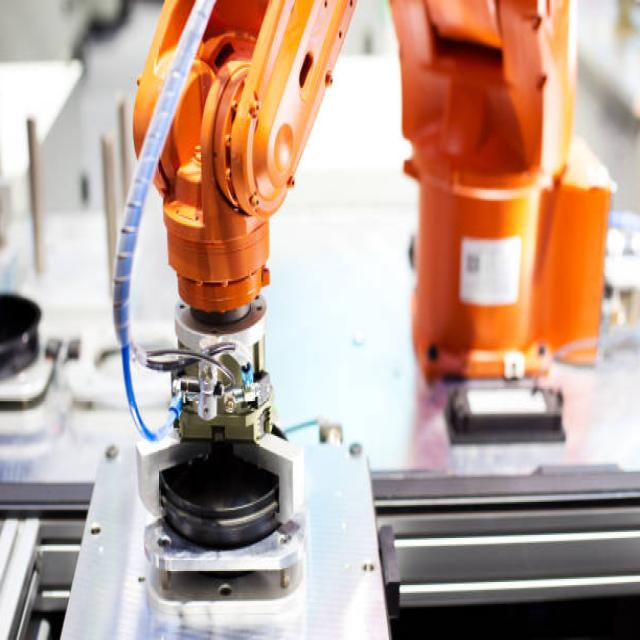Robotic-arm: (128, 0, 620, 431)
